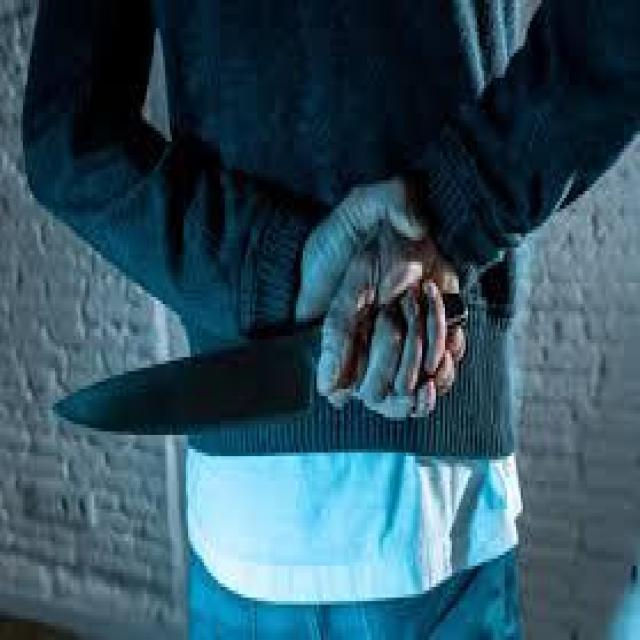faca: (46, 198, 472, 481)
